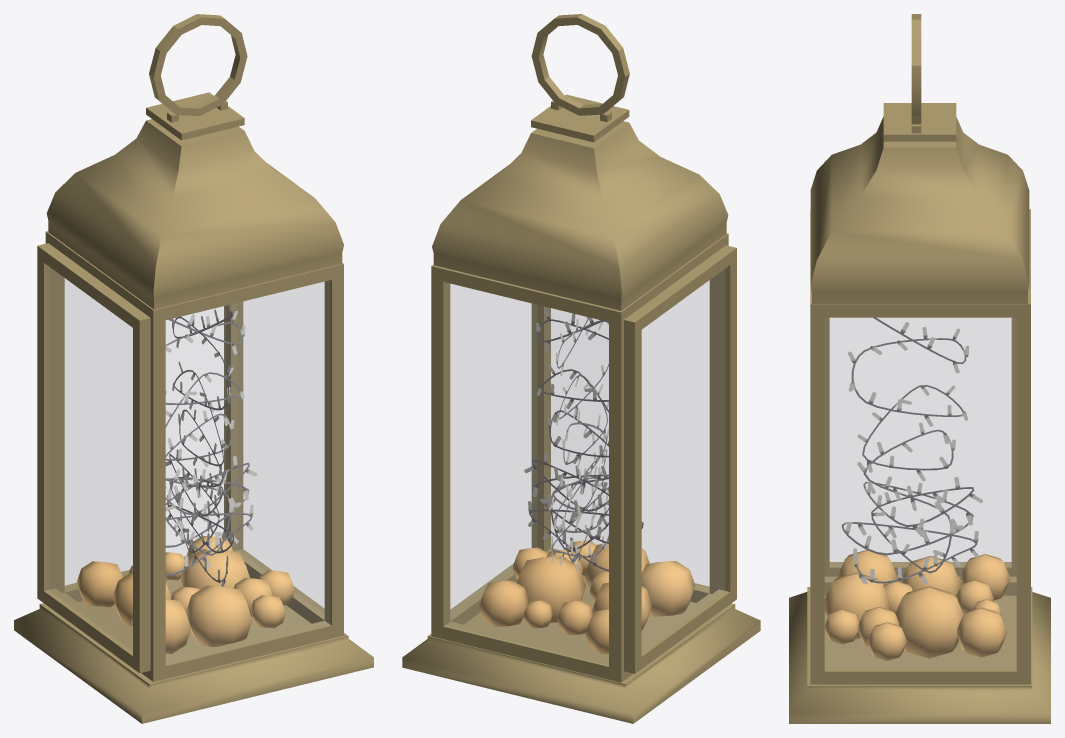
Rendered from fonar.fbx.
The picture shows the model from 3 angles, left to right: view 1: azimuth 30°, elevation 25°; view 2: azimuth 150°, elevation 25°; view 3: azimuth 270°, elevation 25°; orthographic projection. The views are drawn at different scales.
Parts seen in each view (by area): view 1: lamp; view 2: lamp; view 3: lamp.
Boxes of the visible parts, x1=… form: lamp: x1=14, y1=14, x2=373, y2=723; lamp: x1=402, y1=14, x2=760, y2=723; lamp: x1=789, y1=14, x2=1050, y2=723.
Size of the model in its own units: 28.35 by 73.99 by 27.09.
